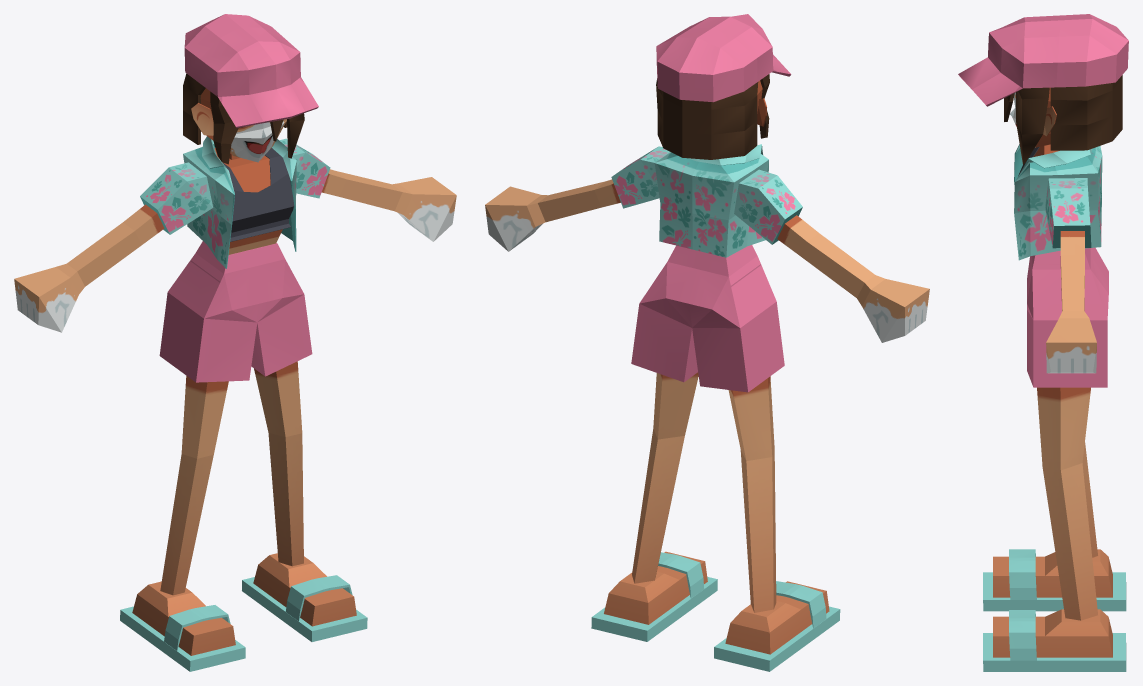
File: Melee Zombie Female.fbx
The picture shows the model from 3 angles, left to right: view 1: azimuth 30°, elevation 25°; view 2: azimuth 150°, elevation 25°; view 3: azimuth 270°, elevation 25°; orthographic projection.
Visible parts, largest first — view 1: hat, Skirt Legging right, Female Songkran.001, Lower_Right_Leg, Short.002, Skirt Legging left, Lower_Left_Leg, Right_ Foot, Bra.001, Left_Foot, Right_Hand, Female Songkran Right.001 (+13 smaller); view 2: Skirt Legging right, Female Songkran.001, hat, hair, Lower_Right_Leg, Skirt Legging left, Lower_Left_Leg, Short.002, Right_ Foot, Left_Foot, Right_Hand, Right__Flipflop.002 (+9 smaller); view 3: hat, hair, Female Songkran.001, Skirt Legging left, Lower_Left_Leg, Left__Flipflop.001, Left_Foot, Upper_Left_Leg.001, Right__Flipflop.002, Left_Hand, Female Songkran Left.001, Right_ Foot (+5 smaller).
Boxes of the visible parts, box(x1,y1,x2,y2) form: hat: box(184, 14, 318, 127); Skirt Legging right: box(159, 253, 257, 382); Female Songkran.001: box(183, 136, 296, 268); Lower_Right_Leg: box(160, 454, 213, 595); Short.002: box(196, 241, 285, 322); Skirt Legging left: box(251, 259, 312, 376); Lower_Left_Leg: box(268, 432, 303, 566); Right_ Foot: box(132, 581, 235, 655); Bra.001: box(222, 147, 294, 241); Left_Foot: box(253, 553, 356, 626); Right_Hand: box(14, 263, 84, 332); Female Songkran Right.001: box(140, 162, 213, 234); Skirt Legging right: box(692, 256, 784, 392); Female Songkran.001: box(654, 144, 768, 257); hat: box(656, 14, 791, 102); hair: box(656, 74, 769, 159); Lower_Right_Leg: box(740, 450, 776, 612); Skirt Legging left: box(631, 262, 697, 382); Lower_Left_Leg: box(632, 428, 684, 583); Short.002: box(666, 245, 757, 327); Right_ Foot: box(725, 581, 829, 654); Left_Foot: box(604, 551, 707, 624); Right_Hand: box(857, 275, 929, 342); Right__Flipflop.002: box(714, 581, 840, 671); hat: box(958, 14, 1128, 106); hair: box(1004, 75, 1122, 164); Female Songkran.001: box(1014, 144, 1102, 260); Skirt Legging left: box(1027, 269, 1108, 387); Lower_Left_Leg: box(1042, 463, 1097, 620); Left__Flipflop.001: box(983, 610, 1126, 671); Left_Foot: box(993, 609, 1112, 657); Upper_Left_Leg.001: box(1037, 387, 1090, 470); Right__Flipflop.002: box(983, 549, 1126, 611); Left_Hand: box(1046, 311, 1096, 373); Female Songkran Left.001: box(1045, 178, 1091, 248); Right_ Foot: box(993, 549, 1112, 597).
Size of the model in its own units: 128 by 175 by 44.39.
Materials: 8 (8 with a texture image).
